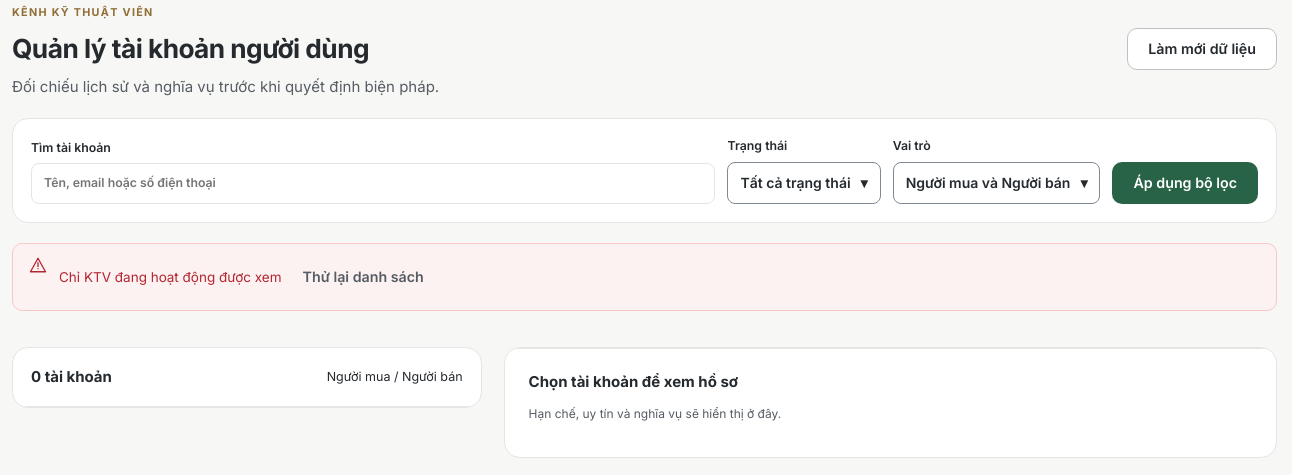
Test: KTV account management › shows failed authorization/loading separately from a genuinely empty list
Expected: the text "Chỉ KTV đang hoạt động được xem" is shown, [59,269,282,285]
Expected: the text "Không có tài khoản phù hợp" is not shown
Click the button "Thử lại danh sách": (363, 277) [282,256,445,298]
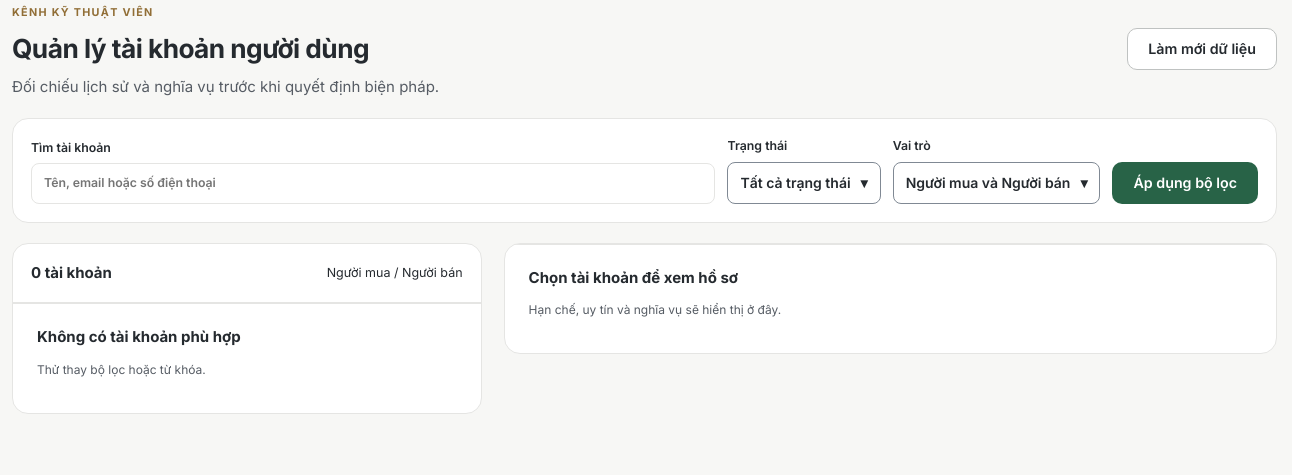
Expected: the heading "Không có tài khoản phù hợp" is shown, [37,327,241,346]
